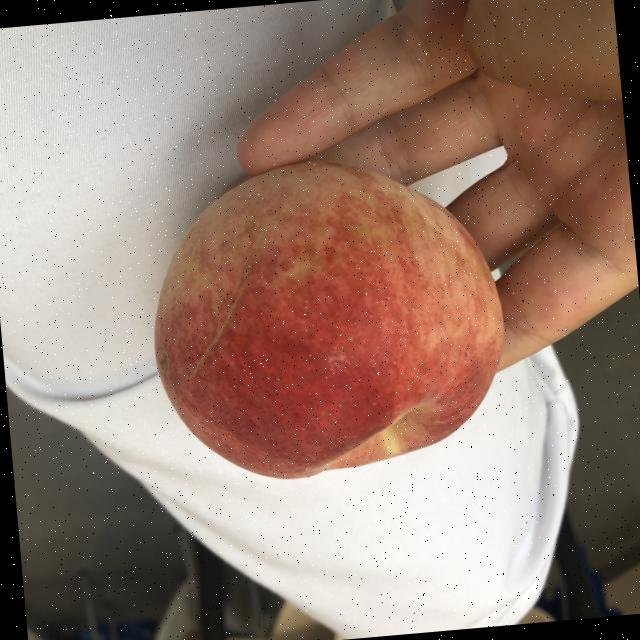peach: (159, 166, 498, 472)
